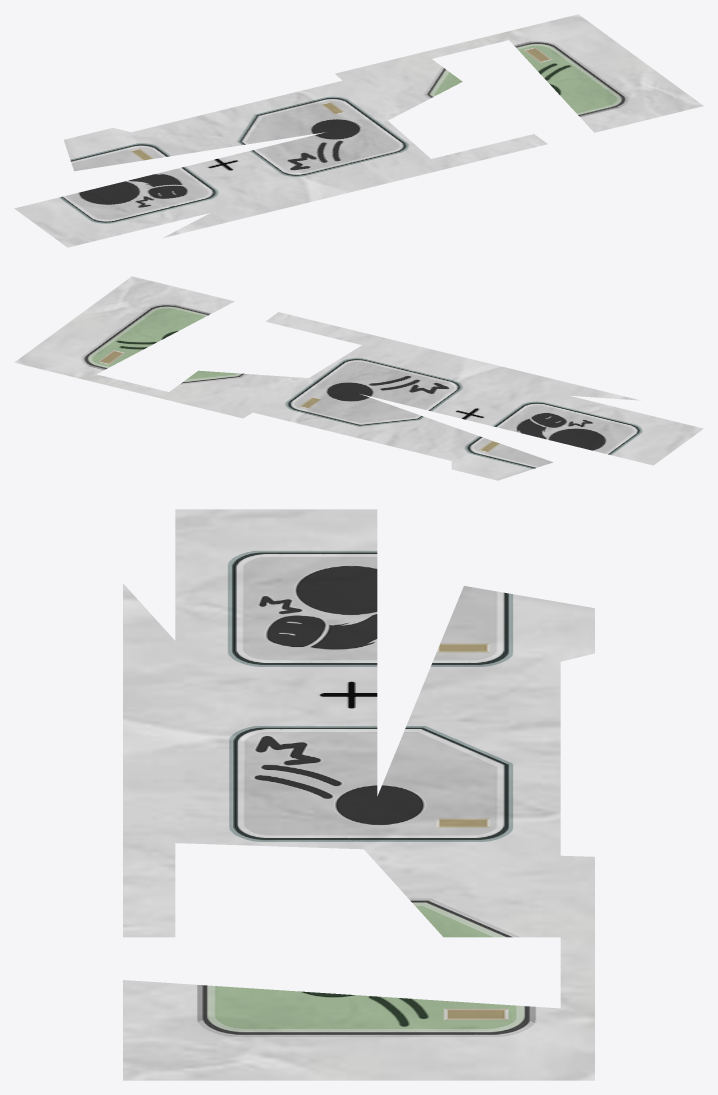
Rendered from Blueprint5.fbx.
The picture shows the model from 3 angles, top to bottom: view 1: azimuth 30°, elevation 25°; view 2: azimuth 150°, elevation 25°; view 3: azimuth 270°, elevation 25°; orthographic projection. The views are drawn at different scales.
Parts seen in each view (by area): view 1: 平面.004; view 2: 平面.004; view 3: 平面.004.
Boxes of the visible parts, x1,y1,x2,y2 form: 平面.004: (14,14,703,247); 平面.004: (14,276,703,480); 平面.004: (123,509,594,1080).
Size of the model in its own units: 200 by 0 by 69.86.
1 material, 1 textured.
